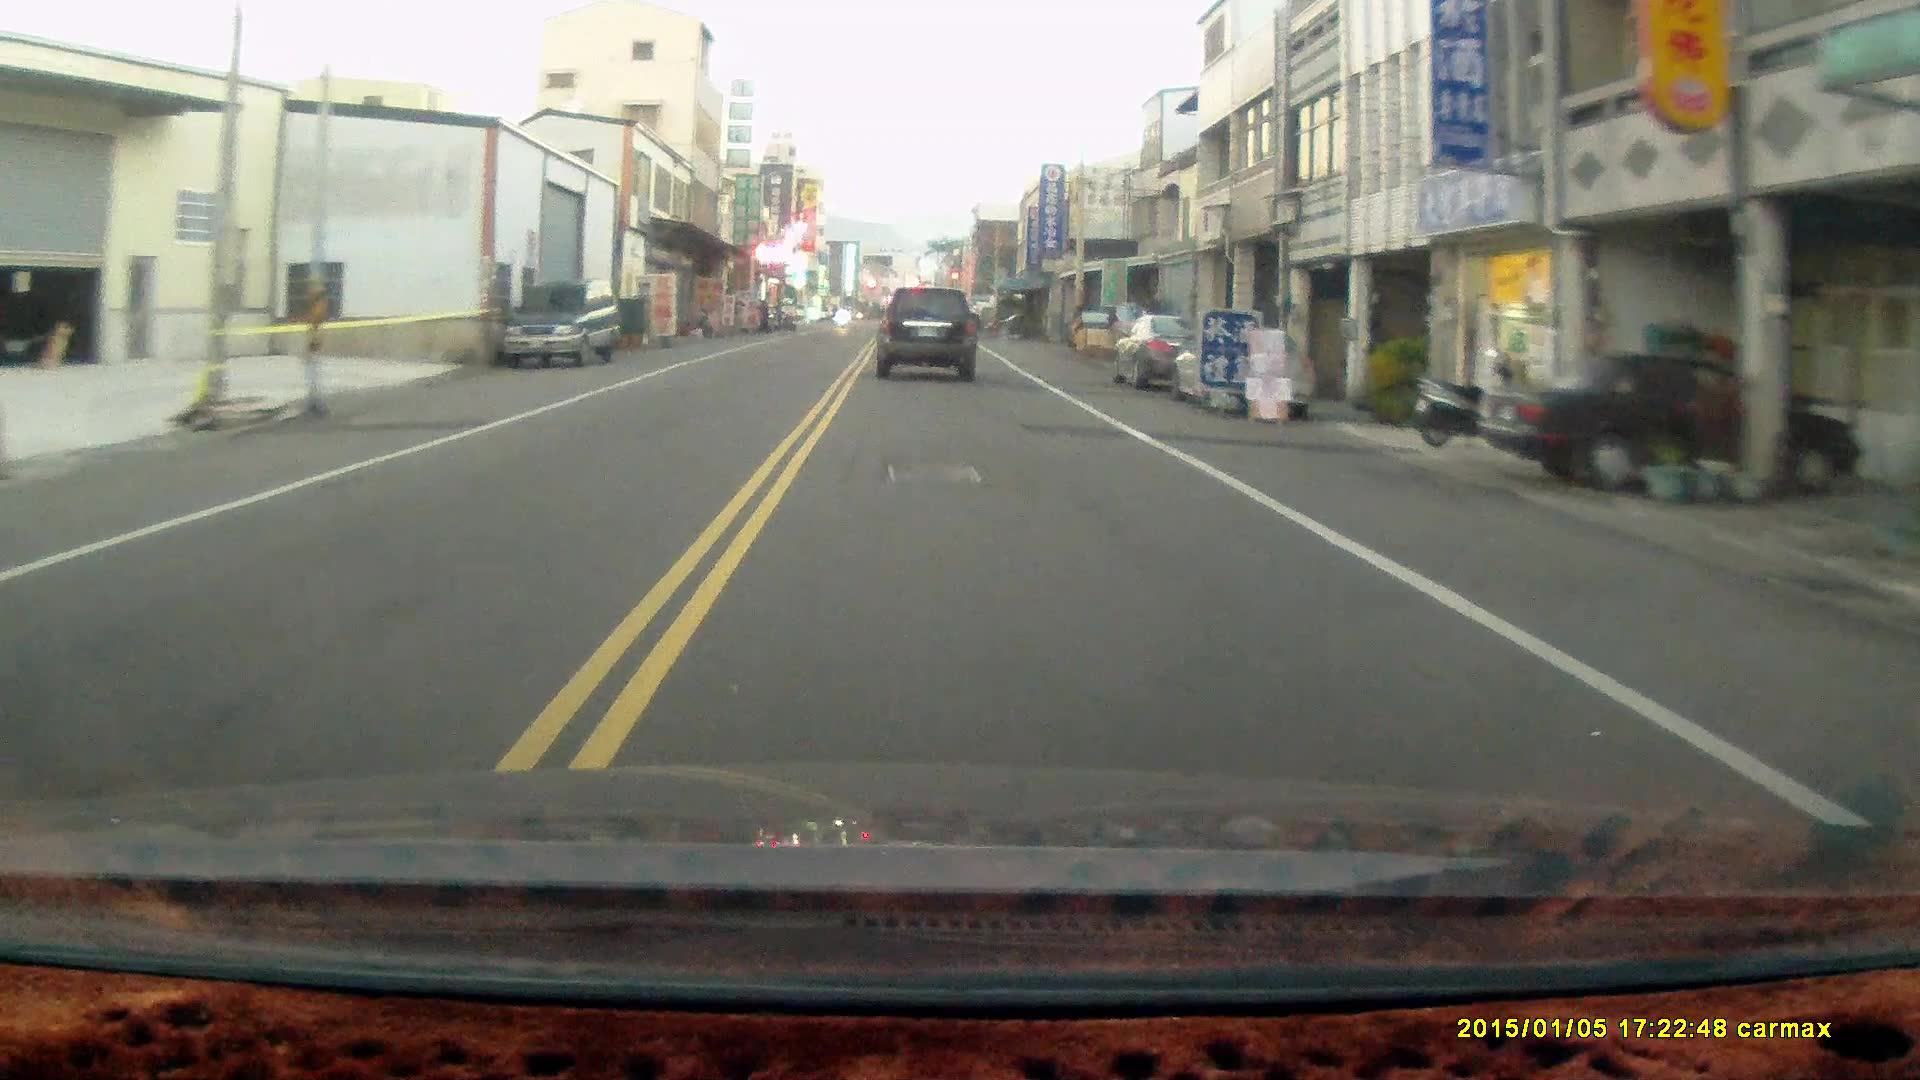vehicle: (1482, 353, 1857, 496), (1172, 327, 1321, 419), (500, 281, 622, 371), (874, 287, 978, 386), (1114, 314, 1233, 392)
